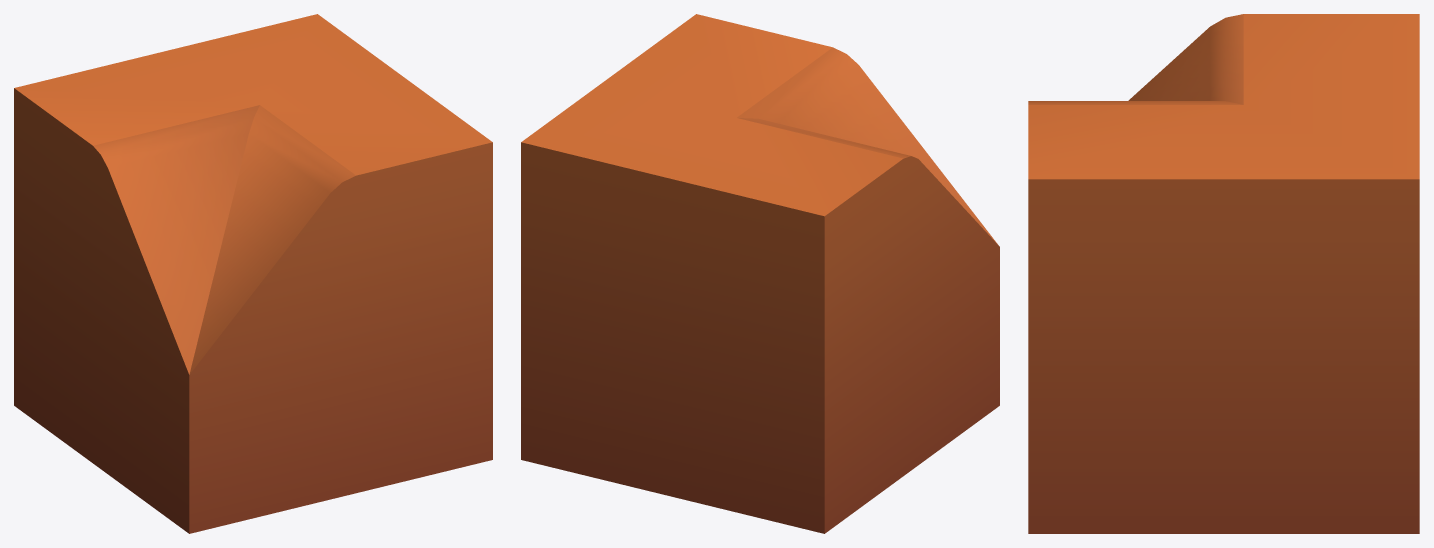
Rendered from terrain_slope_inner_corner.glb.
3 views of the same model, side by side, from view 1: azimuth 30°, elevation 25°; view 2: azimuth 150°, elevation 25°; view 3: azimuth 270°, elevation 25° (orthographic). The views are drawn at different scales.
Parts seen in each view (by area): view 1: terrain_slope_inner_corner; view 2: terrain_slope_inner_corner; view 3: terrain_slope_inner_corner.
Part boxes in pixels (x1=…): terrain_slope_inner_corner: x1=14, y1=14, x2=492, y2=533; terrain_slope_inner_corner: x1=521, y1=14, x2=999, y2=533; terrain_slope_inner_corner: x1=1028, y1=14, x2=1419, y2=533.
Bounding box in the file's own units: 2 × 2 × 2.
1 material, 1 textured.
